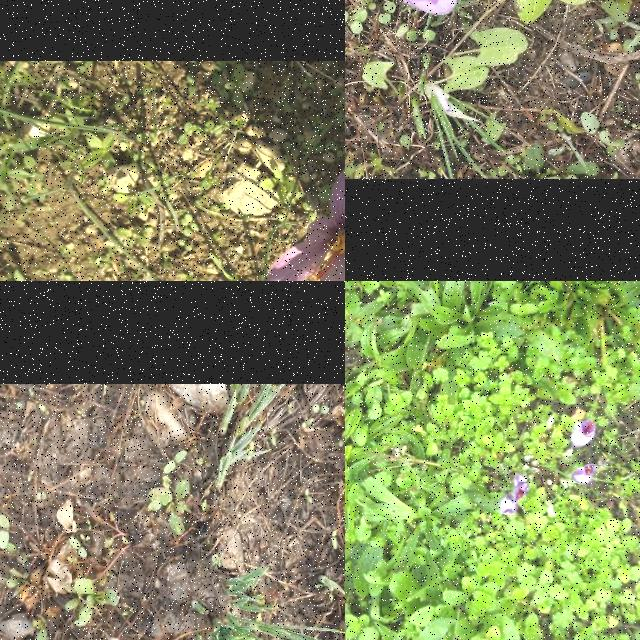flower: (267, 162, 345, 281), (570, 419, 596, 451), (573, 464, 597, 486)
overlap: (499, 474, 528, 516)
